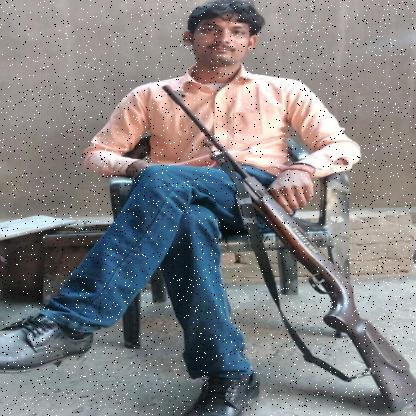rifle: (159, 82, 415, 416)
